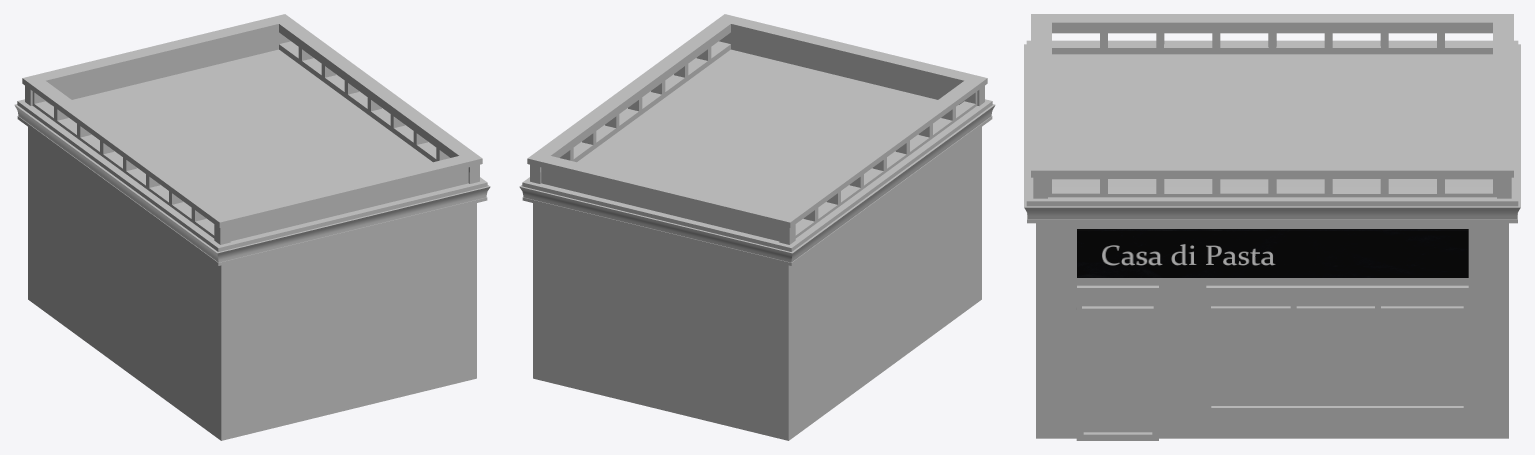
File: restaurant.fbx
The picture shows the model from 3 angles, left to right: view 1: azimuth 30°, elevation 25°; view 2: azimuth 150°, elevation 25°; view 3: azimuth 270°, elevation 25°; orthographic projection. The views are drawn at different scales.
Parts seen in each view (by area): view 1: building; view 2: building; view 3: building, window & door, sign.
Part boxes in pixels (bbox=[...]): building: bbox=[14, 14, 490, 440]; building: bbox=[519, 14, 995, 440]; building: bbox=[1024, 14, 1520, 438]; window & door: bbox=[1076, 285, 1468, 440]; sign: bbox=[1077, 229, 1468, 277].
Size of the model in its own units: 1596 by 1232 by 2056.
